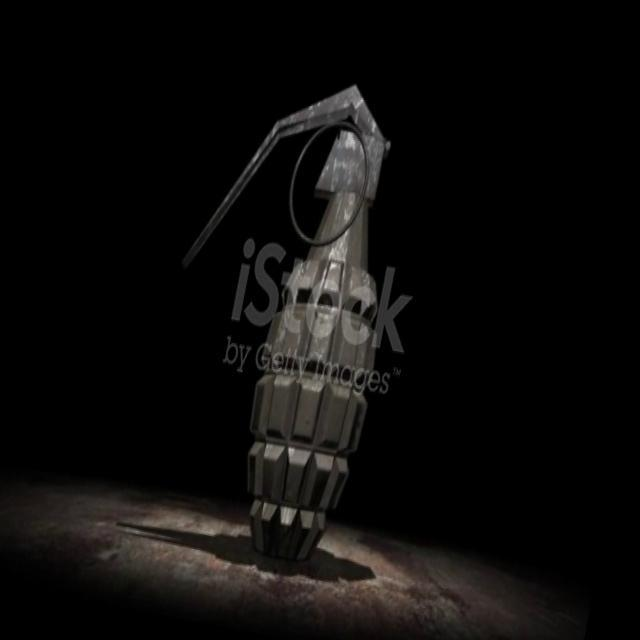grenade: (136, 53, 437, 560)
